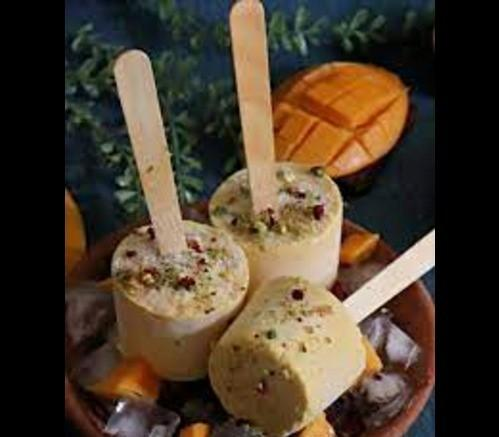Kulfi: (208, 275, 367, 436), (112, 220, 251, 381), (206, 161, 343, 298)
